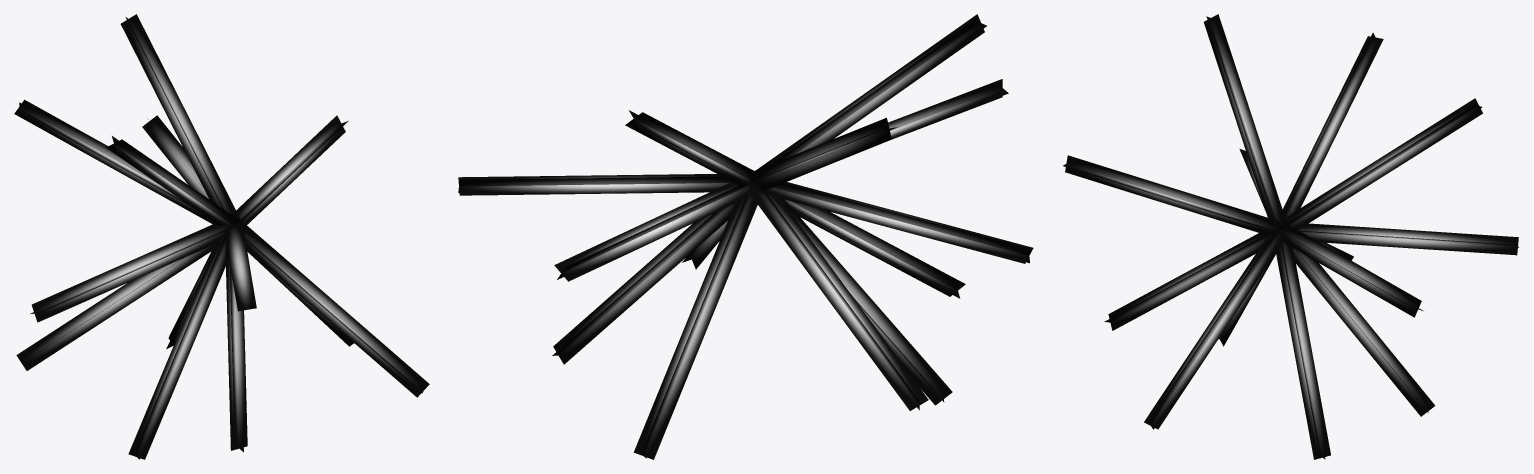
Rendered from vfx_kurp_0943.dae.
The picture shows the model from 3 angles, left to right: view 1: azimuth 30°, elevation 25°; view 2: azimuth 150°, elevation 25°; view 3: azimuth 270°, elevation 25°; orthographic projection. The views are drawn at different scales.
Visible parts, largest first — view 1: vfx_kurp_0943; view 2: vfx_kurp_0943; view 3: vfx_kurp_0943.
Boxes of the visible parts, bbox=[...] form: vfx_kurp_0943: bbox=[14, 14, 429, 459]; vfx_kurp_0943: bbox=[458, 14, 1033, 459]; vfx_kurp_0943: bbox=[1063, 14, 1518, 459].
Bounding box in the file's own units: 19.22 × 19.87 × 15.45.
Materials: 1 (1 with a texture image).
